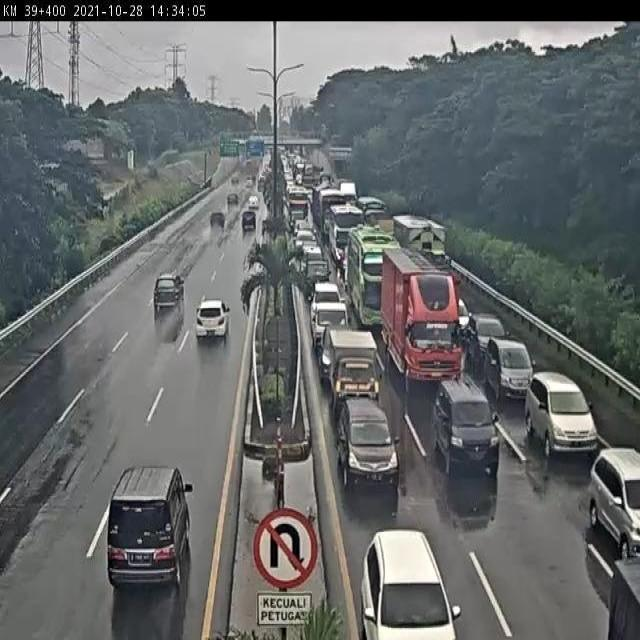Bus: (344, 224, 400, 330), (324, 202, 365, 268)
Car: (359, 527, 460, 638), (335, 397, 401, 498), (432, 380, 499, 478), (525, 370, 596, 456), (586, 447, 640, 556), (482, 336, 534, 404), (463, 313, 508, 377), (153, 274, 186, 329), (195, 296, 230, 340), (312, 280, 342, 312), (242, 210, 256, 232), (210, 211, 225, 231), (248, 195, 259, 211), (227, 193, 239, 207), (231, 175, 240, 185), (245, 177, 253, 188)
Truck: (380, 246, 464, 389), (321, 327, 379, 407), (393, 213, 447, 264), (310, 299, 348, 356)
Van: (105, 465, 191, 590)
